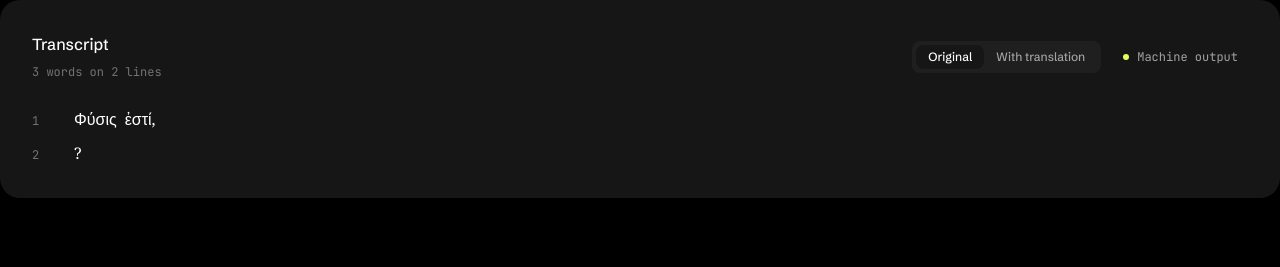
Test: Transcript › shows each translation under its word on request
What coordinates should you click on to do the following:
click the button "With translation"
I would click on:
 (1041, 57)
Its box is [984,45,1097,69].
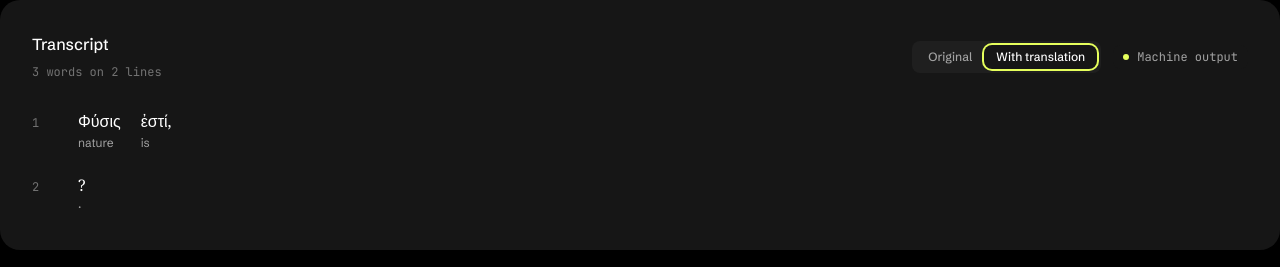
Check: the button "Φύσις nature" is shown, box [72,106,127,154]
Check: the button "? ·" is shown, box [72,170,92,218]
